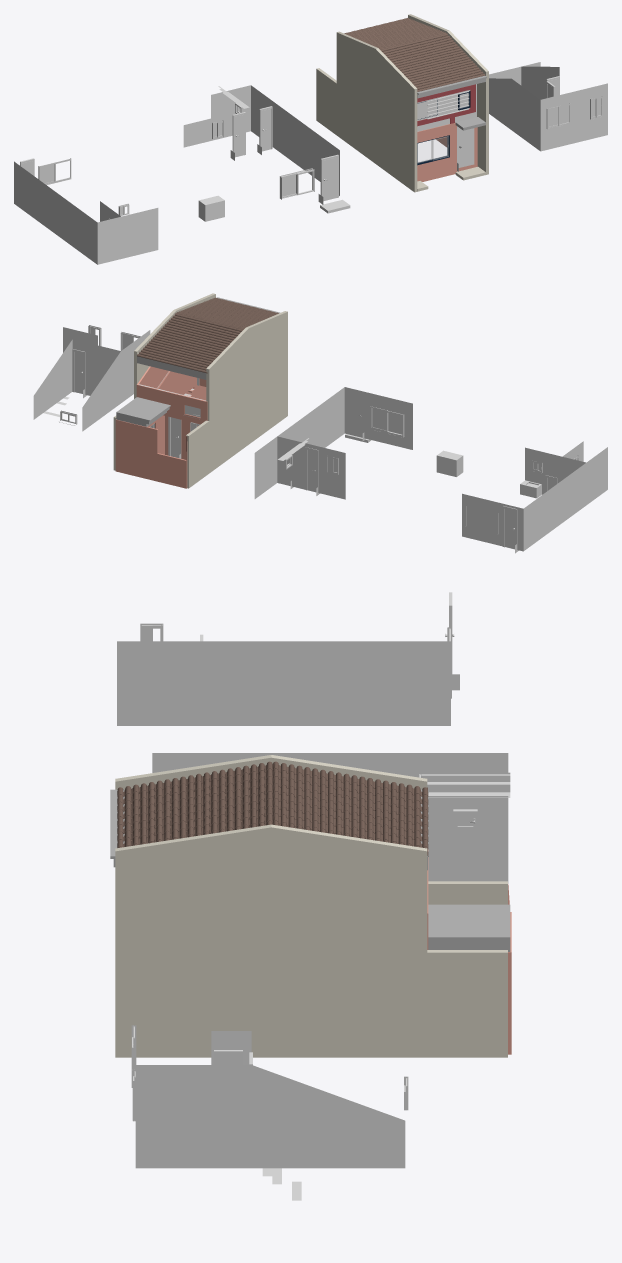
The model's file is modelHouse2.glb.
3 renders of one model, top to bottom at view 1: azimuth 30°, elevation 25°; view 2: azimuth 150°, elevation 25°; view 3: azimuth 270°, elevation 25°, orthographic. The views are drawn at different scales.
Visible parts, largest first — view 1: Cube.003, Plane.002, wall, Roof.002, Wall, Wall.001, wall.002, Cube.007, Door.003, sink.001, Door.010, roof (+4 smaller); view 2: Cube.003, Wall, wall, Plane.002, Roof.002, Wall.001, wall.003, Roof.001, roof, sink.001; view 3: Cube.003, wall, Plane.002, Roof.002, Wall, Roof.001, Roof.
Part boxes in pixels (left/top/right/bottom): Cube.003: left=316, top=14, right=488, bottom=192; Plane.002: left=489, top=62, right=607, bottom=151; wall: left=14, top=161, right=158, bottom=264; Roof.002: left=344, top=18, right=485, bottom=91; Wall: left=183, top=85, right=339, bottom=195; Wall.001: left=417, top=122, right=477, bottom=181; wall.002: left=417, top=84, right=476, bottom=131; Cube.007: left=417, top=84, right=475, bottom=126; Door.003: left=323, top=157, right=337, bottom=201; sink.001: left=198, top=195, right=224, bottom=221; Door.010: left=458, top=127, right=472, bottom=167; roof: left=417, top=75, right=486, bottom=98; Cube.003: left=113, top=293, right=287, bottom=488; Wall: left=254, top=387, right=412, bottom=499; wall: left=462, top=441, right=607, bottom=551; Plane.002: left=33, top=327, right=150, bottom=431; Roof.002: left=137, top=297, right=278, bottom=373; Wall.001: left=115, top=385, right=206, bottom=488; wall.003: left=136, top=366, right=207, bottom=424; Roof.001: left=116, top=397, right=170, bottom=426; roof: left=137, top=297, right=280, bottom=379; sink.001: left=436, top=450, right=463, bottom=476; Cube.003: left=115, top=755, right=507, bottom=1057; wall: left=117, top=641, right=450, bottom=725; Plane.002: left=135, top=1031, right=405, bottom=1200; Roof.002: left=117, top=761, right=428, bottom=856; Wall: left=152, top=753, right=508, bottom=883; Roof.001: left=428, top=904, right=510, bottom=951; Roof: left=421, top=772, right=510, bottom=797.
Size of the model in its own units: 26.75 by 7.45 by 9.02.
